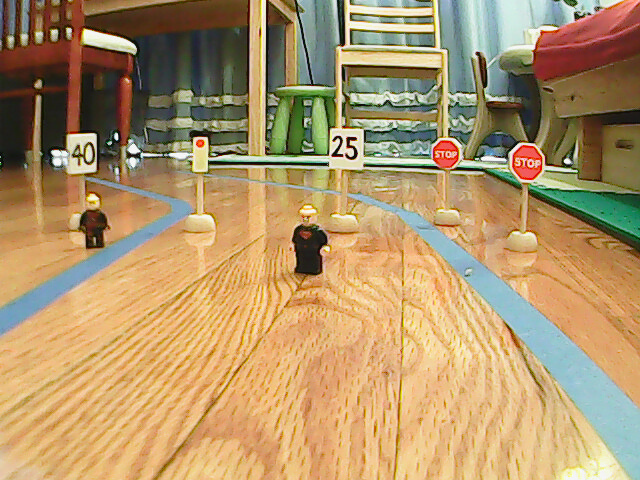Person: (288, 205, 328, 276), (78, 192, 112, 248)
Red Traffic Light: (187, 128, 210, 176)
Speed Limit 25: (328, 126, 363, 174)
Speed Limit 40: (65, 133, 99, 176)
Stop Sign: (508, 142, 548, 185), (429, 138, 464, 173)
